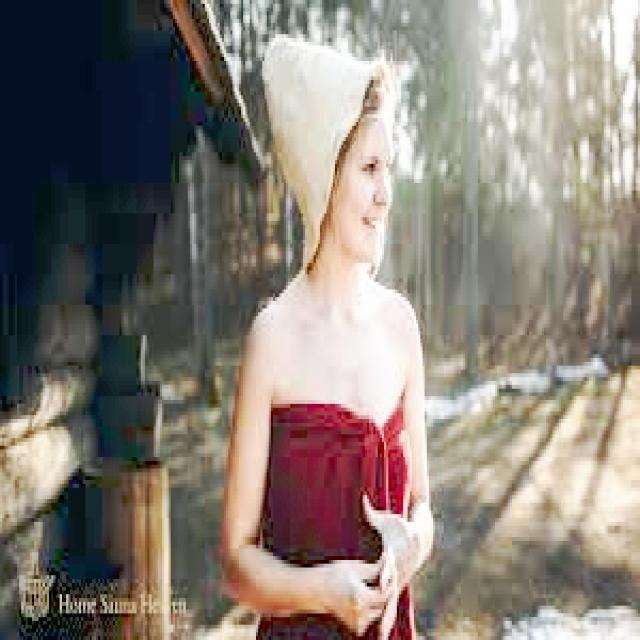TOPI: (256, 27, 386, 278)
